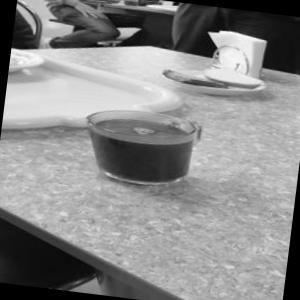coffee: (68, 94, 207, 202)
